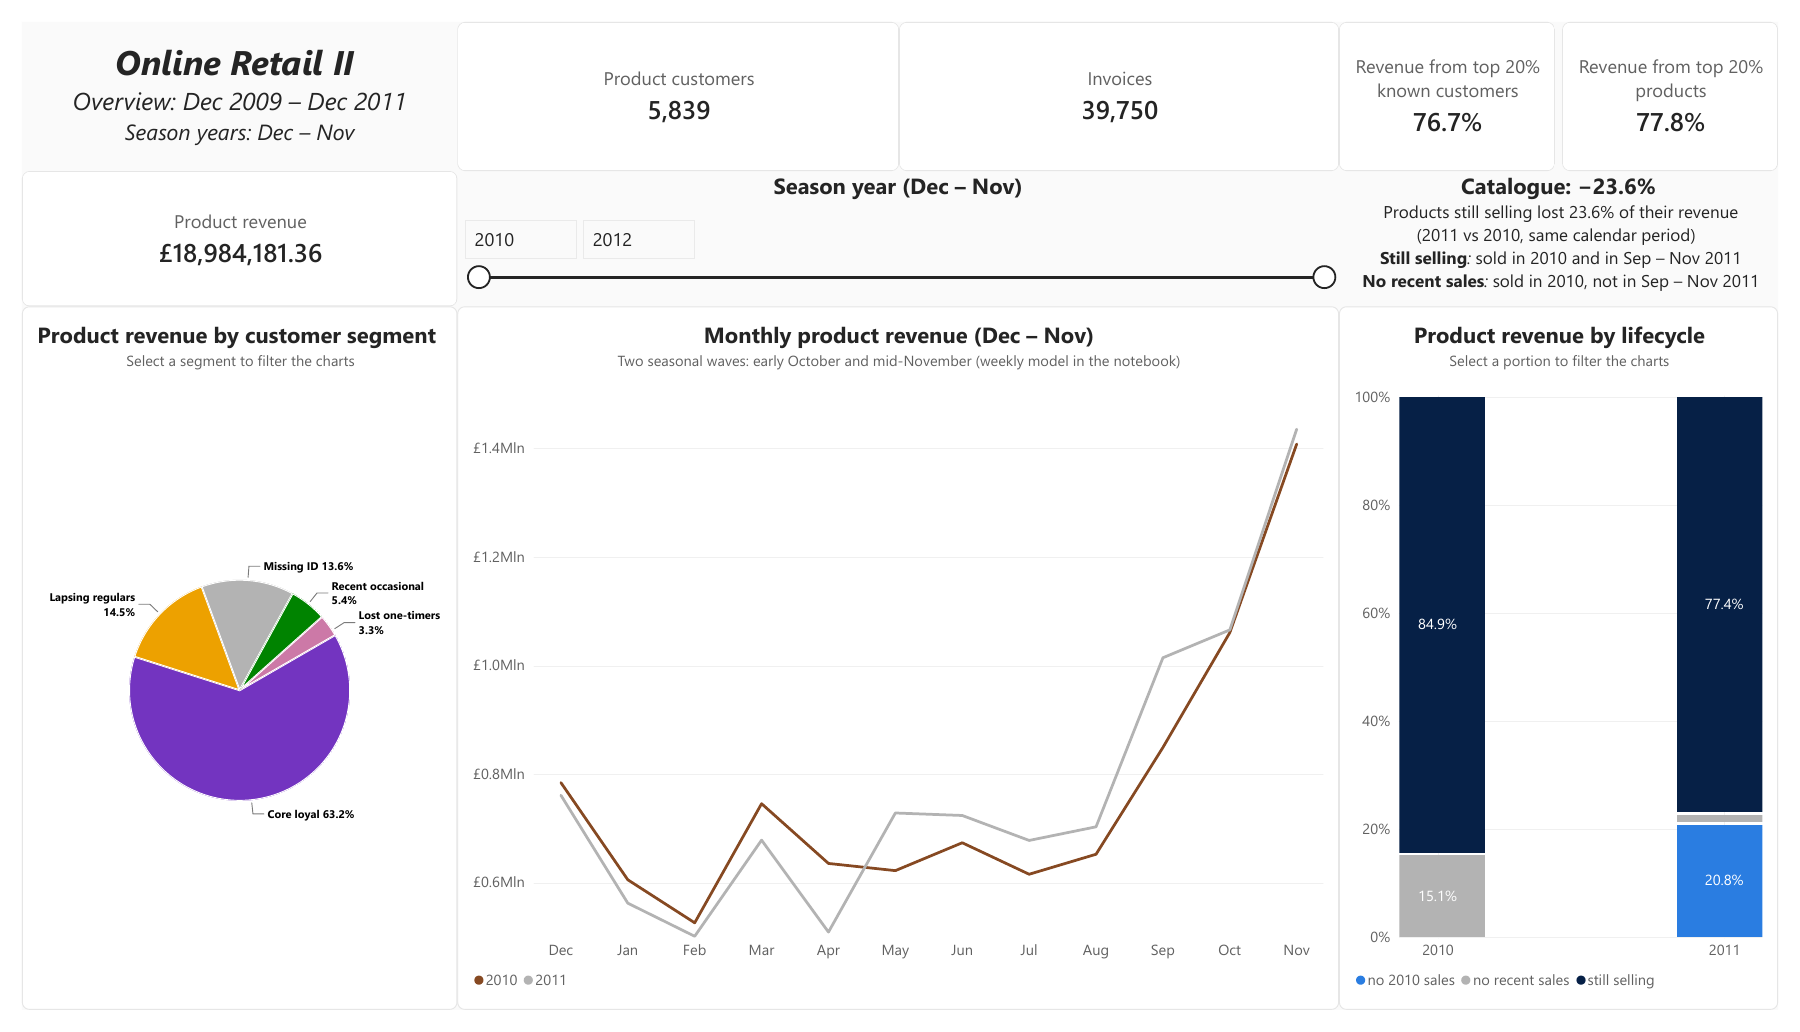

This screenshot's page, from the dashboard's own definition file:
{"tool":"powerbi","page":{"name":"Overview","canvas":[1920,1080],"ordinal":0},"visuals":[{"type":"cardVisual","fields":{"Data":["_Measures.Product revenue"]},"box":[0,162.9,475.9,148.4],"z":0},{"type":"cardVisual","fields":{"Data":["_Measures.Product customers"]},"box":[475.9,0,483.2,162.9],"z":1000},{"type":"cardVisual","fields":{"Data":["_Measures.Invoices"]},"box":[959.1,0,481.4,162.9],"z":2000},{"type":"lineChart","title":"Monthly product revenue (Dec – Nov)","fields":{"Category":["Calendar.Month name"],"Series":["Calendar.Season year"],"Y":["_Measures.Product revenue"]},"box":[475.9,311.3,964.5,769.1],"z":3000},{"type":"cardVisual","fields":{"Data":["_Measures.Top 20% customers share","_Measures.Top 20% products share"]},"box":[1440.5,0,479.6,162.9],"z":4000},{"type":"hundredPercentStackedColumnChart","title":"Product revenue by lifecycle","fields":{"Category":["Calendar.Season year"],"Series":["products_dim.lifecycle"],"Y":["_Measures.Product revenue"]},"box":[1440.5,311.3,479.6,769.1],"z":5000},{"type":"slicer","title":"Season year (Dec – Nov)","fields":{"Values":["Calendar.Season year"]},"box":[475.9,162.9,964.5,148.4],"z":6000},{"type":"pieChart","title":"Product revenue by customer segment","fields":{"Category":["retail_export.Segment"],"Y":["_Measures.Product revenue"]},"box":[0,311.3,475.9,769.1],"z":7000},{"type":"textbox","box":[0,0,475.9,162.9],"z":8000},{"type":"textbox","box":[1440.5,162.9,479.6,148.4],"z":9000}]}

Visuals, with their boxes in screenshot pixels (x1, y1, x2, y2), scaled from the page's 1920x1080 canvas onto the 1800x1032 screenshot:
cardVisual - _Measures.Product revenue: 0 156 446 297
cardVisual - _Measures.Product customers: 446 0 899 156
cardVisual - _Measures.Invoices: 899 0 1350 156
"Monthly product revenue (Dec – Nov)" lineChart: 446 297 1350 1031
cardVisual - _Measures.Top 20% customers share x _Measures.Top 20% products share: 1350 0 1799 156
"Product revenue by lifecycle" hundredPercentStackedColumnChart: 1350 297 1799 1031
"Season year (Dec – Nov)" slicer: 446 156 1350 297
"Product revenue by customer segment" pieChart: 0 297 446 1031
textbox: 0 0 446 156
textbox: 1350 156 1799 297
